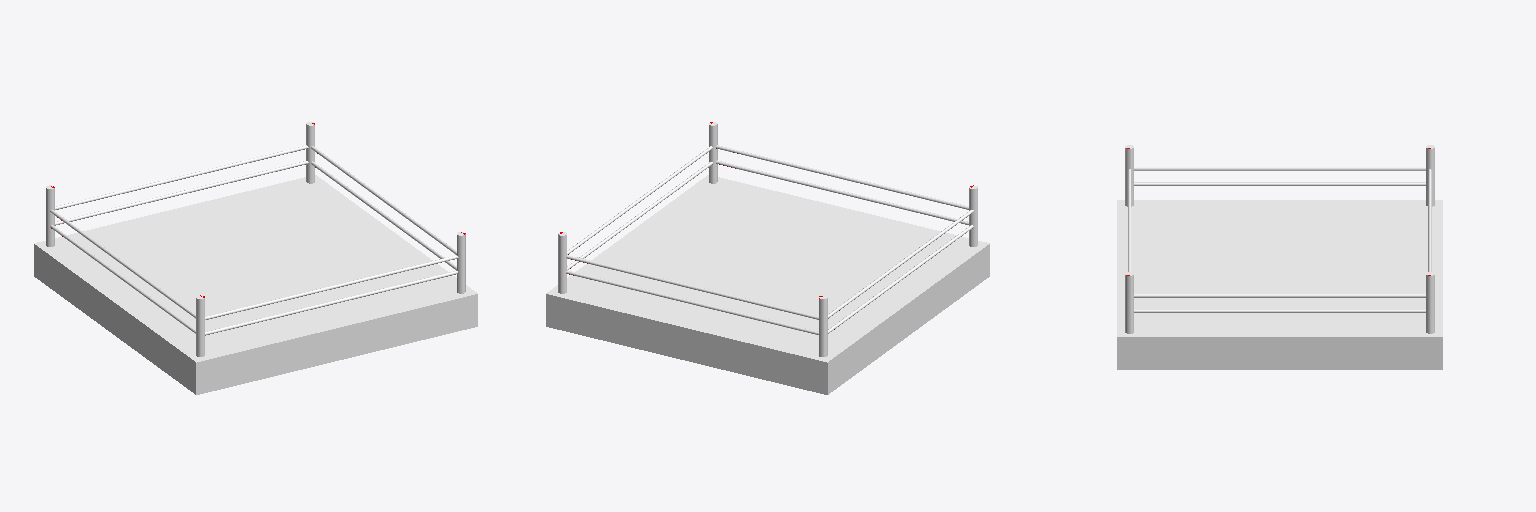
3 views of the same model, side by side, from view 1: azimuth 30°, elevation 25°; view 2: azimuth 150°, elevation 25°; view 3: azimuth 270°, elevation 25° (orthographic).
Visible parts, largest first — view 1: 円柱.008_円柱.009; view 2: 円柱.008_円柱.009; view 3: 円柱.008_円柱.009.
Part boxes in pixels (x1,y1,x2,y2): 円柱.008_円柱.009: (34, 122, 477, 394); 円柱.008_円柱.009: (546, 122, 989, 394); 円柱.008_円柱.009: (1117, 145, 1442, 369).
Bounding box in the file's own units: 17.95 × 5.53 × 17.96.
1 materials, 1 textured.